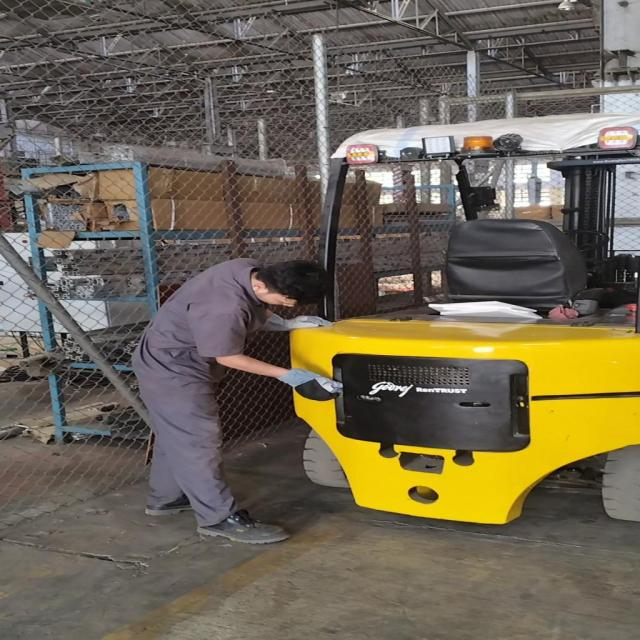Gloves-Detection: (278, 364, 338, 402), (262, 312, 324, 336)
